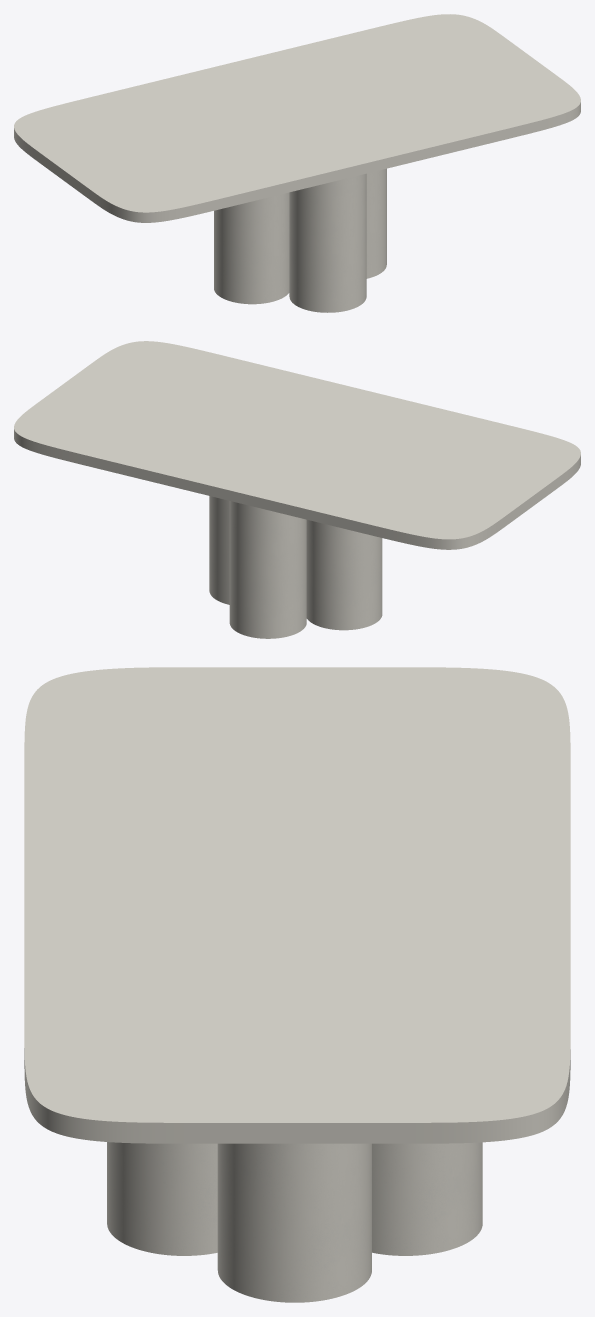
Rendered from pale_softrecta_standard_secondtable.glb.
The picture shows the model from 3 angles, top to bottom: view 1: azimuth 30°, elevation 25°; view 2: azimuth 150°, elevation 25°; view 3: azimuth 270°, elevation 25°; orthographic projection. The views are drawn at different scales.
Visible parts, largest first — view 1: standard_softrecta, secondtable; view 2: standard_softrecta, secondtable; view 3: standard_softrecta, secondtable.
Part boxes in pixels (<box>): standard_softrecta: <box>14,14,580,222</box>; secondtable: <box>214,168,386,312</box>; standard_softrecta: <box>14,341,580,549</box>; secondtable: <box>209,496,382,638</box>; standard_softrecta: <box>24,667,570,1143</box>; secondtable: <box>107,1142,482,1302</box>.
Bounding box in the file's own units: 7.5 × 2.5 × 3.8.
Materials: 1 (1 with a texture image).
